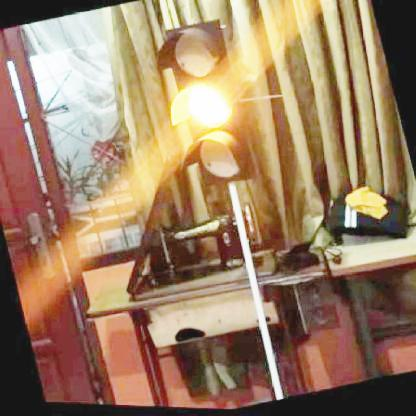Traffic Light -Yellow-: (152, 20, 259, 195)
